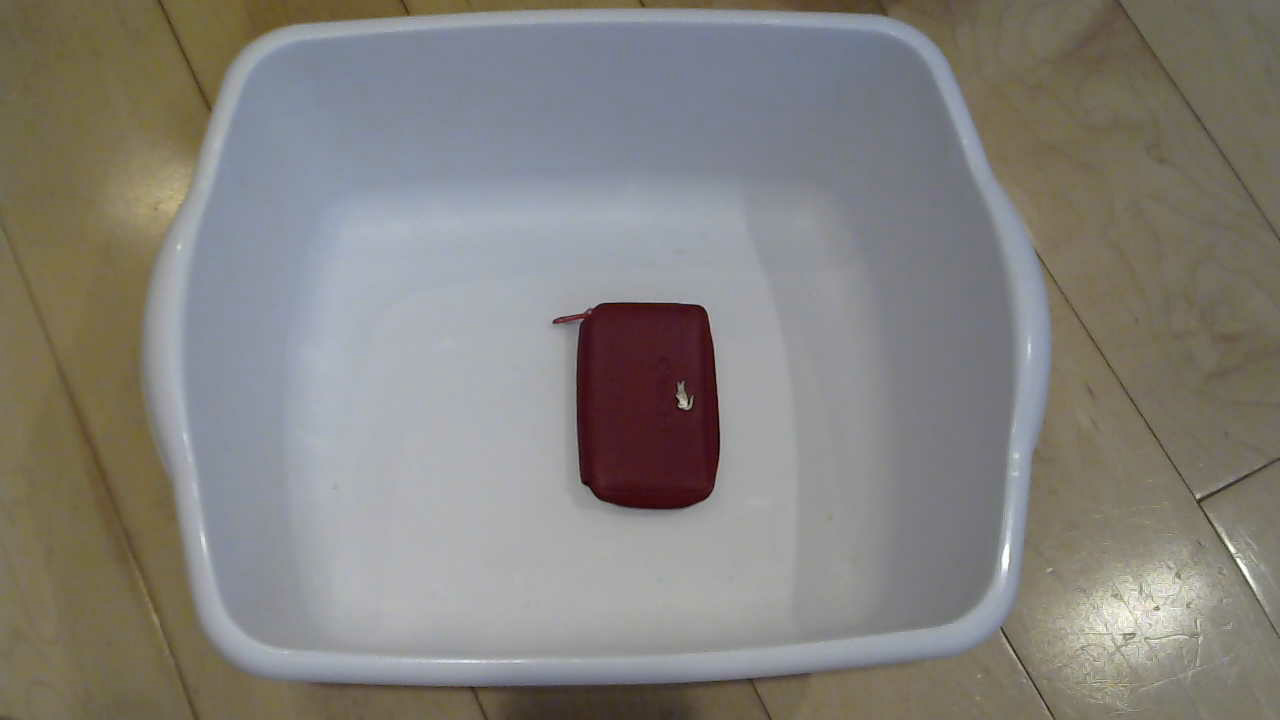wallet: (558, 301, 746, 532)
